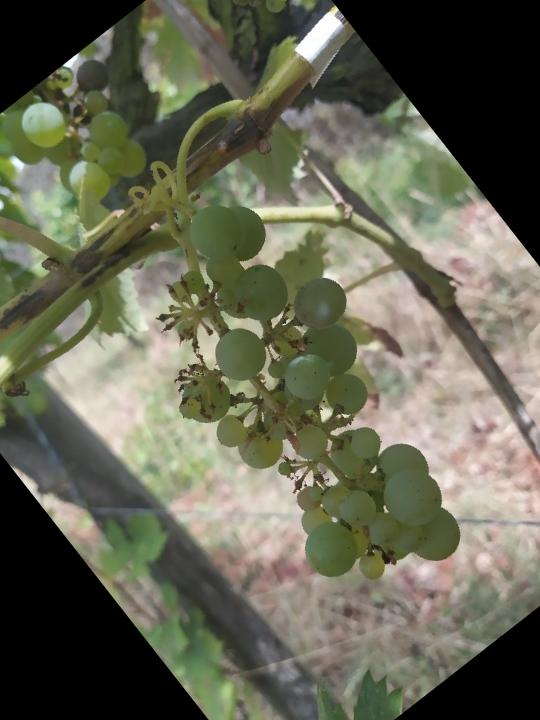grape: (86, 168, 517, 636)
